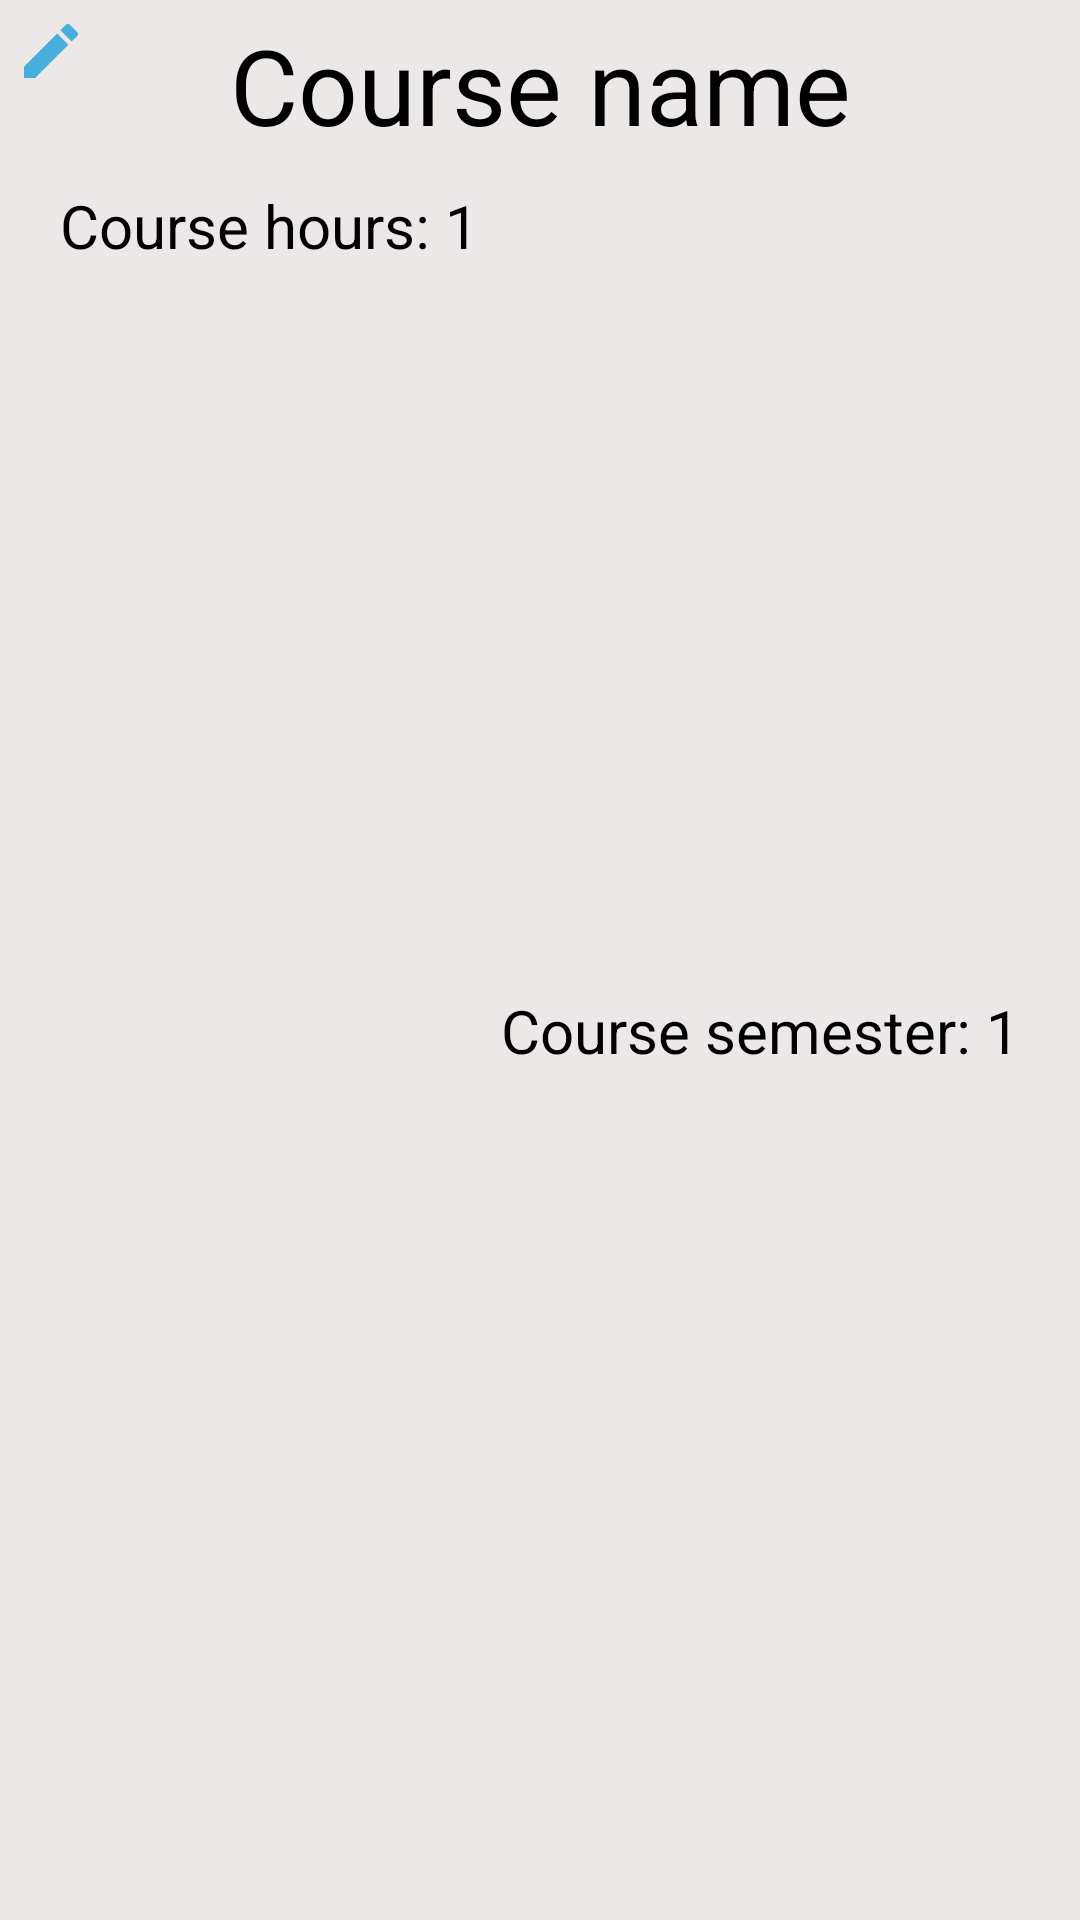

Where to tap for icons on this 1080px×1920px app screen, as (x=x, y=y):
edit: (x=51, y=51)
